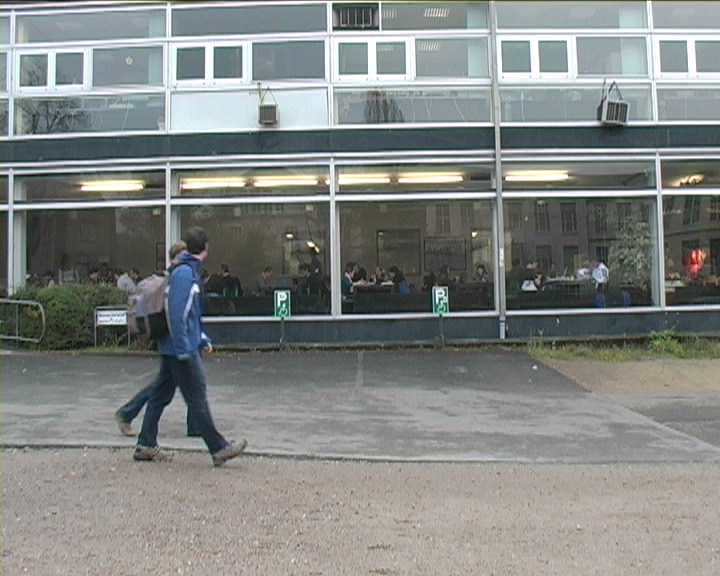deflection: (165, 227, 212, 333)
